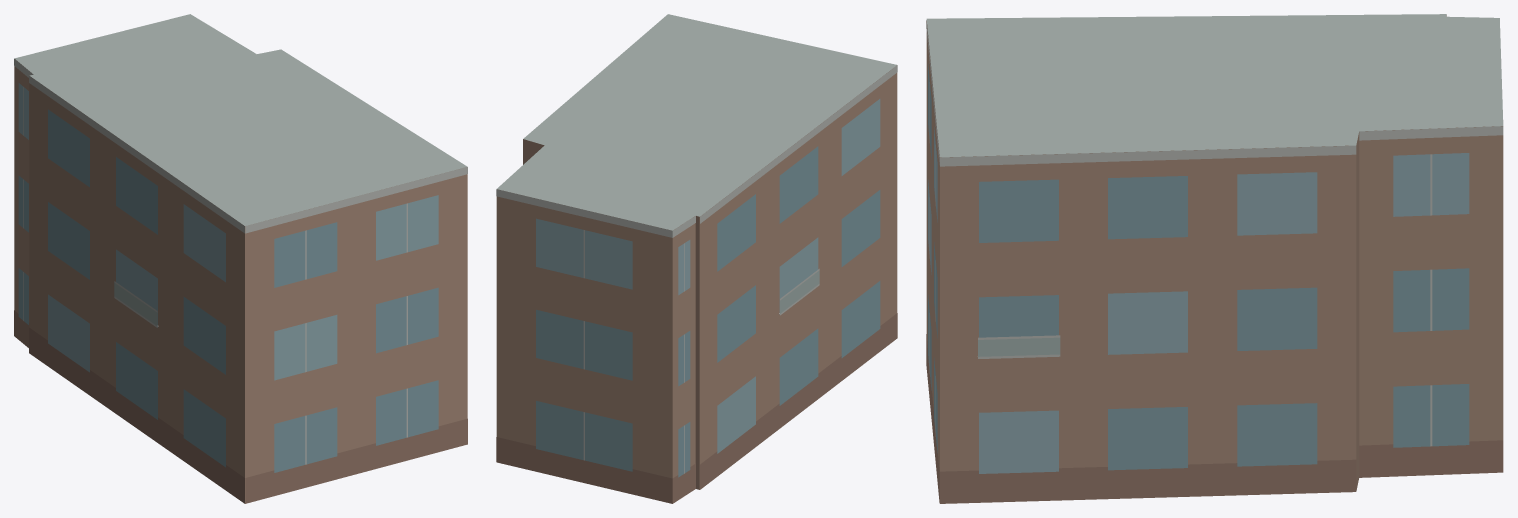
File: survey-upis-32666555.glb
3 views of the same model, side by side, from view 1: azimuth 30°, elevation 25°; view 2: azimuth 150°, elevation 25°; view 3: azimuth 270°, elevation 25° (orthographic). The views are drawn at different scales.
Parts seen in each view (by area): view 1: survey-upis-32666555.tmp; view 2: survey-upis-32666555.tmp; view 3: survey-upis-32666555.tmp.
Boxes of the visible parts, <box> form: survey-upis-32666555.tmp: <box>14,14,467,503</box>; survey-upis-32666555.tmp: <box>496,14,897,503</box>; survey-upis-32666555.tmp: <box>926,14,1503,503</box>.
Size of the model in its own units: 8.13 by 9.15 by 13.82.
